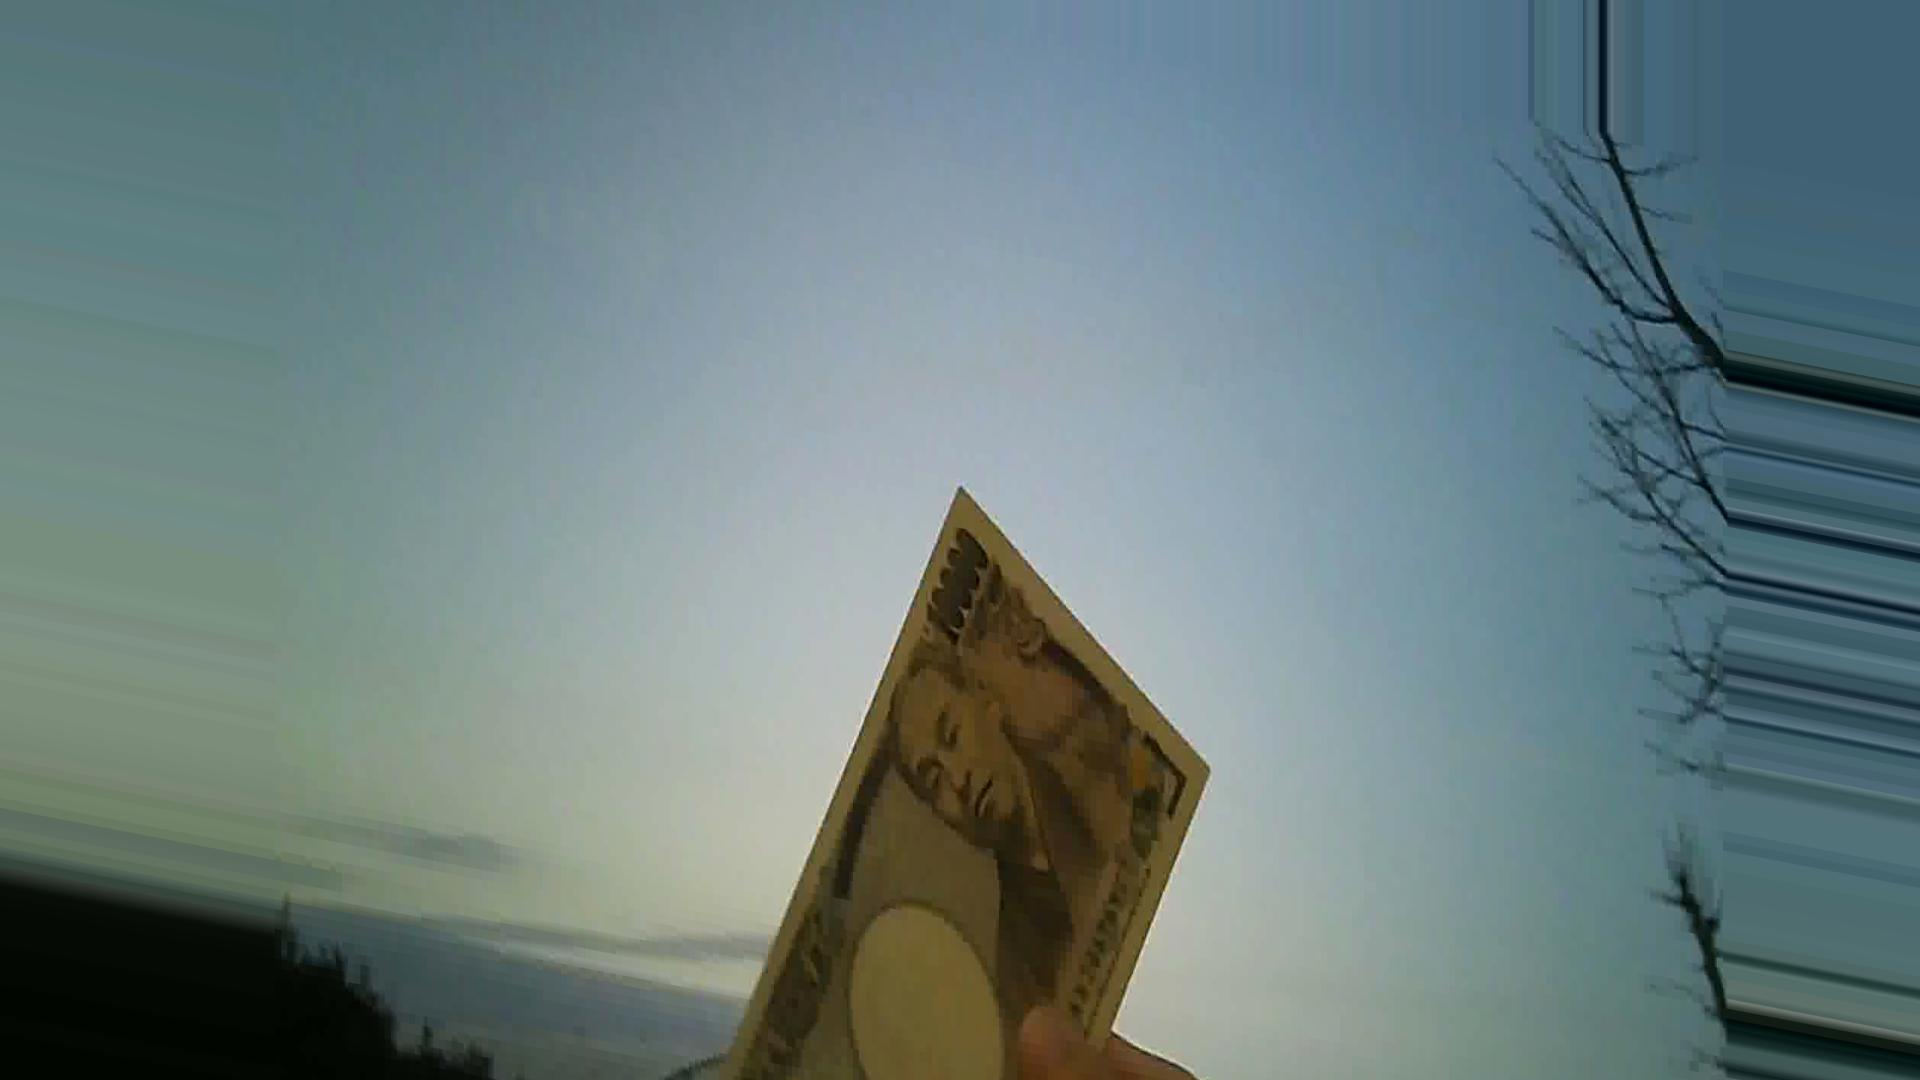10,000 Yen: (707, 471, 1215, 1067)
